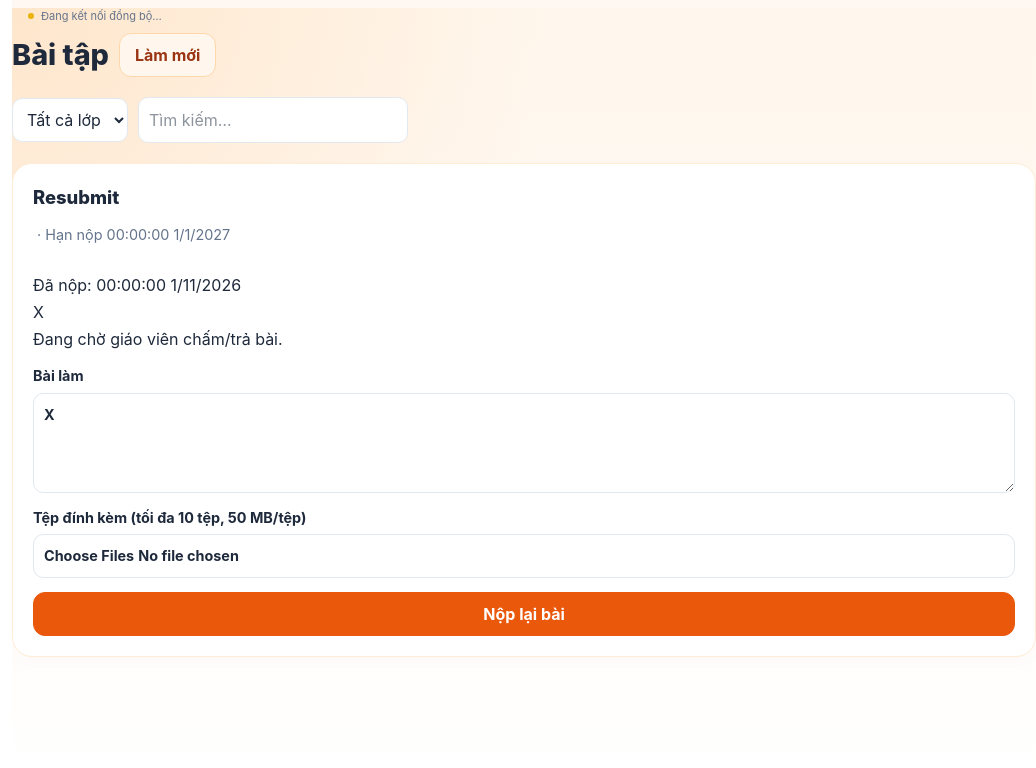
Test case: API portal screens › keeps the draft and exposes a submission error so the user can retry
The width and height of the screenshot is (1036, 768).
Replace the text in the text box labelled "Bài làm" with "Keep this draft" at (524, 443), box [33,393,1015,493]
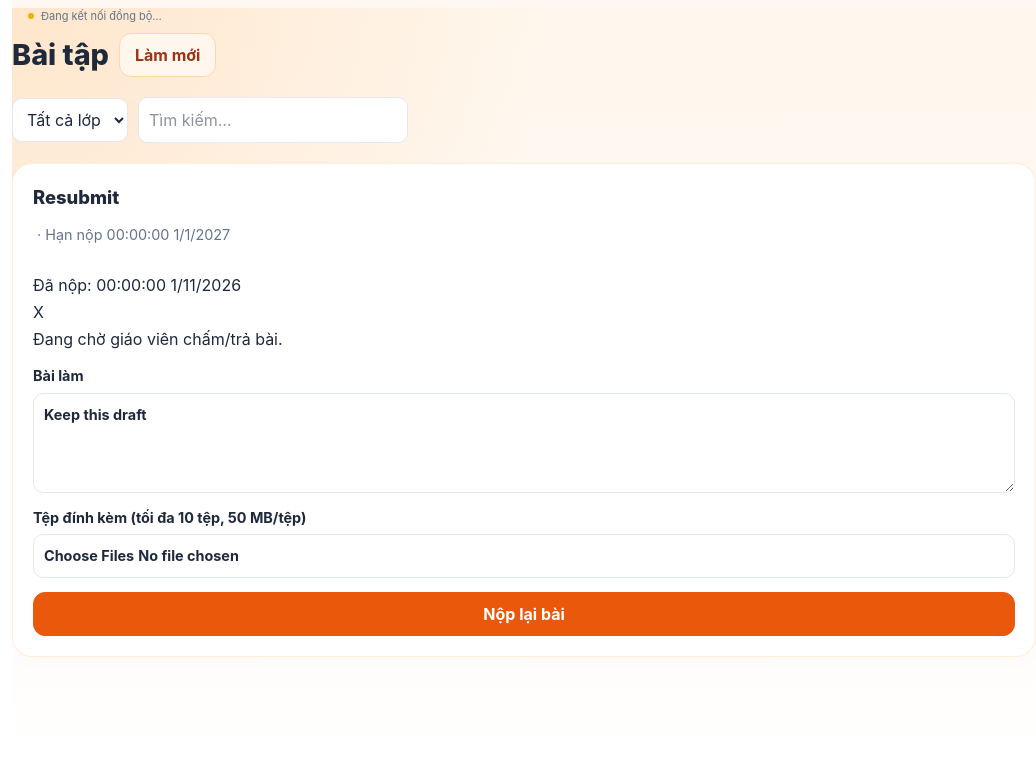
Click the button "Nộp lại bài".
click(524, 614)  # box [33,592,1015,636]
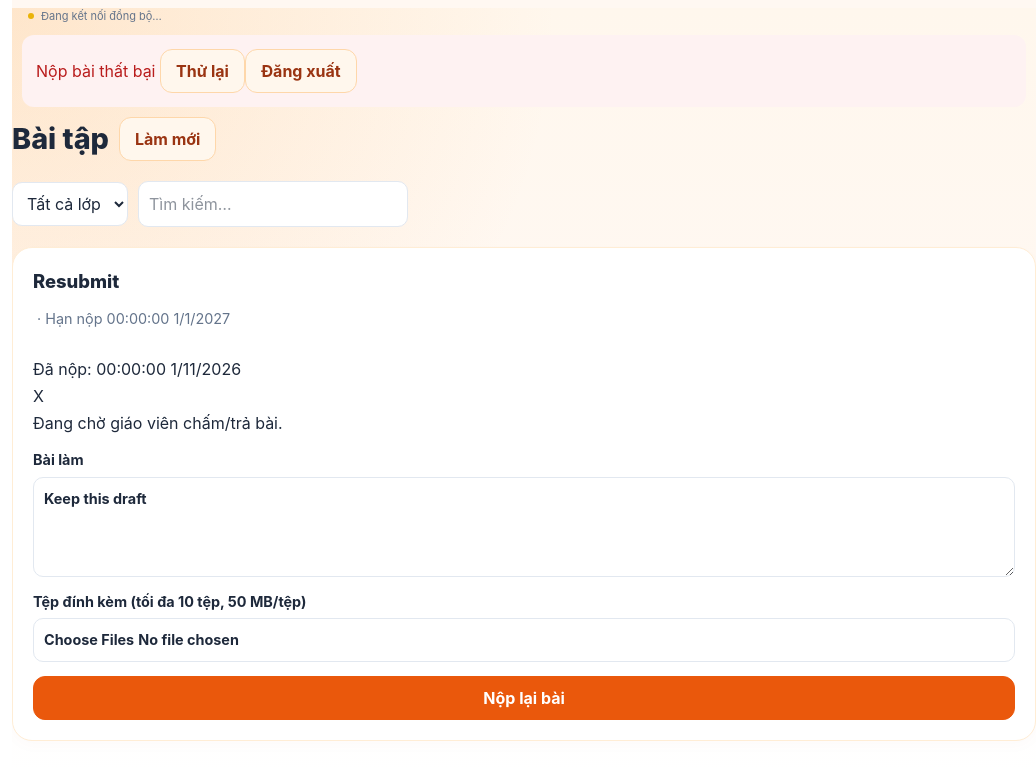
Expected: the button "Nộp lại bài" is enabled, [33,676,1015,720]
Result: the message shows "Nộp bài thất bại" at [36,60,156,80]
